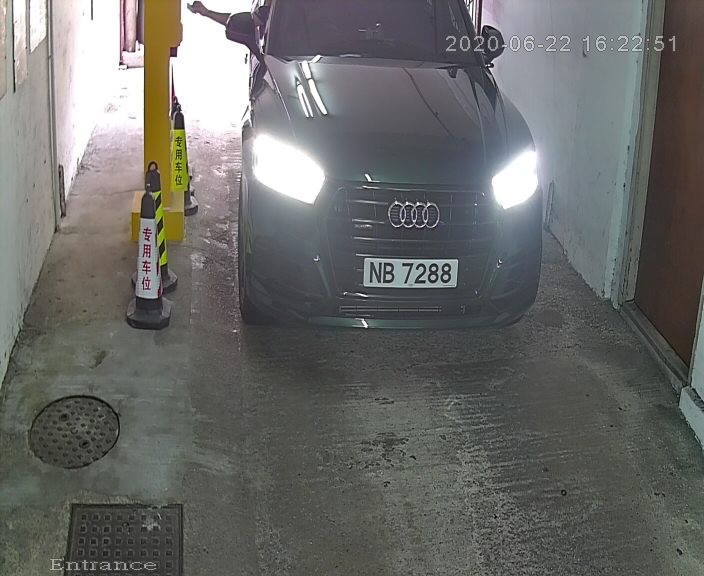privatecar: (225, 1, 546, 361)
